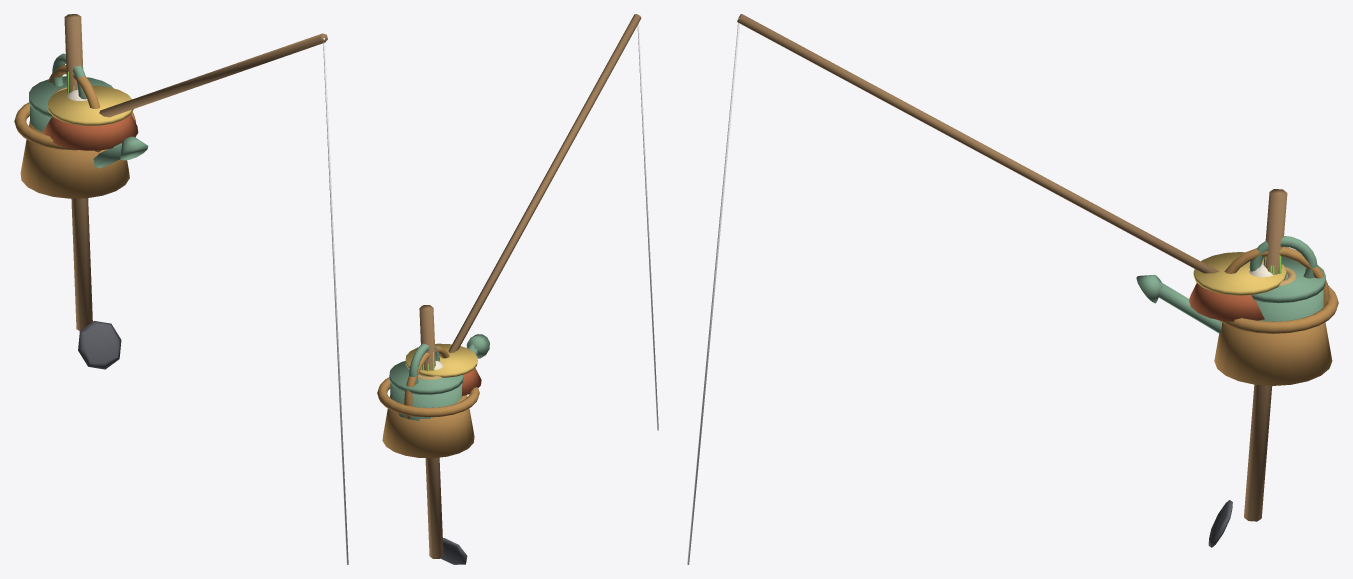
File: khoi-tools.glb
3 views of the same model, side by side, from view 1: azimuth 30°, elevation 25°; view 2: azimuth 150°, elevation 25°; view 3: azimuth 270°, elevation 25° (orthographic). The views are drawn at different scales.
Parts seen in each view (by area): view 1: tool-basket, tool-hoe, tool-bowl, tool-rod, tool-can; view 2: tool-basket, tool-rod, tool-can, tool-hoe, tool-bowl; view 3: tool-basket, tool-rod, tool-can, tool-hoe, tool-bowl.
Boxes of the visible parts, x1,y1,x2,y2 form: tool-basket: [14, 65, 135, 198]; tool-hoe: [64, 14, 121, 369]; tool-bowl: [43, 85, 138, 150]; tool-rod: [99, 33, 348, 564]; tool-can: [29, 53, 148, 168]; tool-basket: [377, 345, 479, 458]; tool-rod: [448, 14, 658, 430]; tool-can: [389, 334, 489, 420]; tool-hoe: [419, 305, 467, 564]; tool-bowl: [405, 343, 481, 395]; tool-basket: [1214, 246, 1338, 385]; tool-rod: [687, 14, 1219, 564]; tool-can: [1136, 236, 1325, 333]; tool-hoe: [1208, 189, 1287, 547]; tool-bowl: [1189, 252, 1286, 321].
Size of the model in its own units: 0.102 by 0.4735 by 0.5078.
